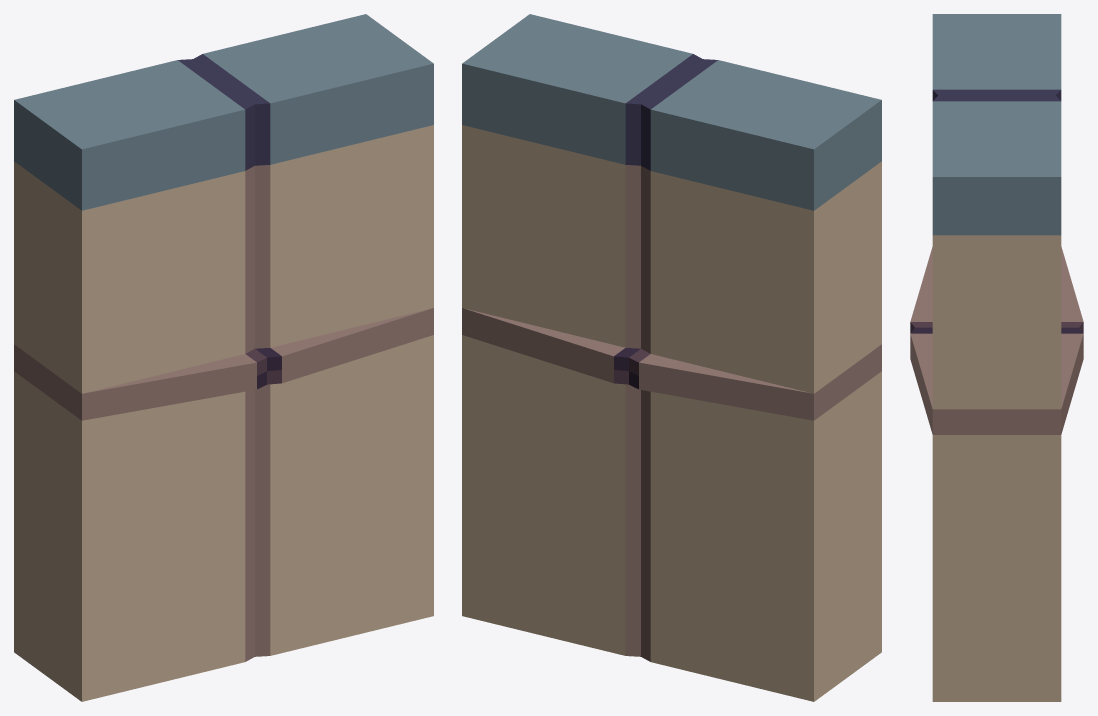
The model's file is lv2_gate.fbx.
3 views of the same model, side by side, from view 1: azimuth 30°, elevation 25°; view 2: azimuth 150°, elevation 25°; view 3: azimuth 270°, elevation 25° (orthographic). The views are drawn at different scales.
Visible parts, largest first — view 1: Lv2Obsticle1Left1.002; view 2: Lv2Obsticle1Left1.002; view 3: Lv2Obsticle1Left1.002.
Boxes of the visible parts, box(x1,y1,x2,y2) form: Lv2Obsticle1Left1.002: box(14, 14, 433, 701); Lv2Obsticle1Left1.002: box(462, 14, 881, 701); Lv2Obsticle1Left1.002: box(910, 14, 1083, 701).
Size of the model in its own units: 1200 by 1800 by 539.
